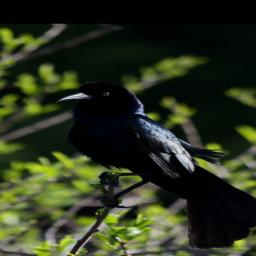Crow: (35, 79, 256, 249)
